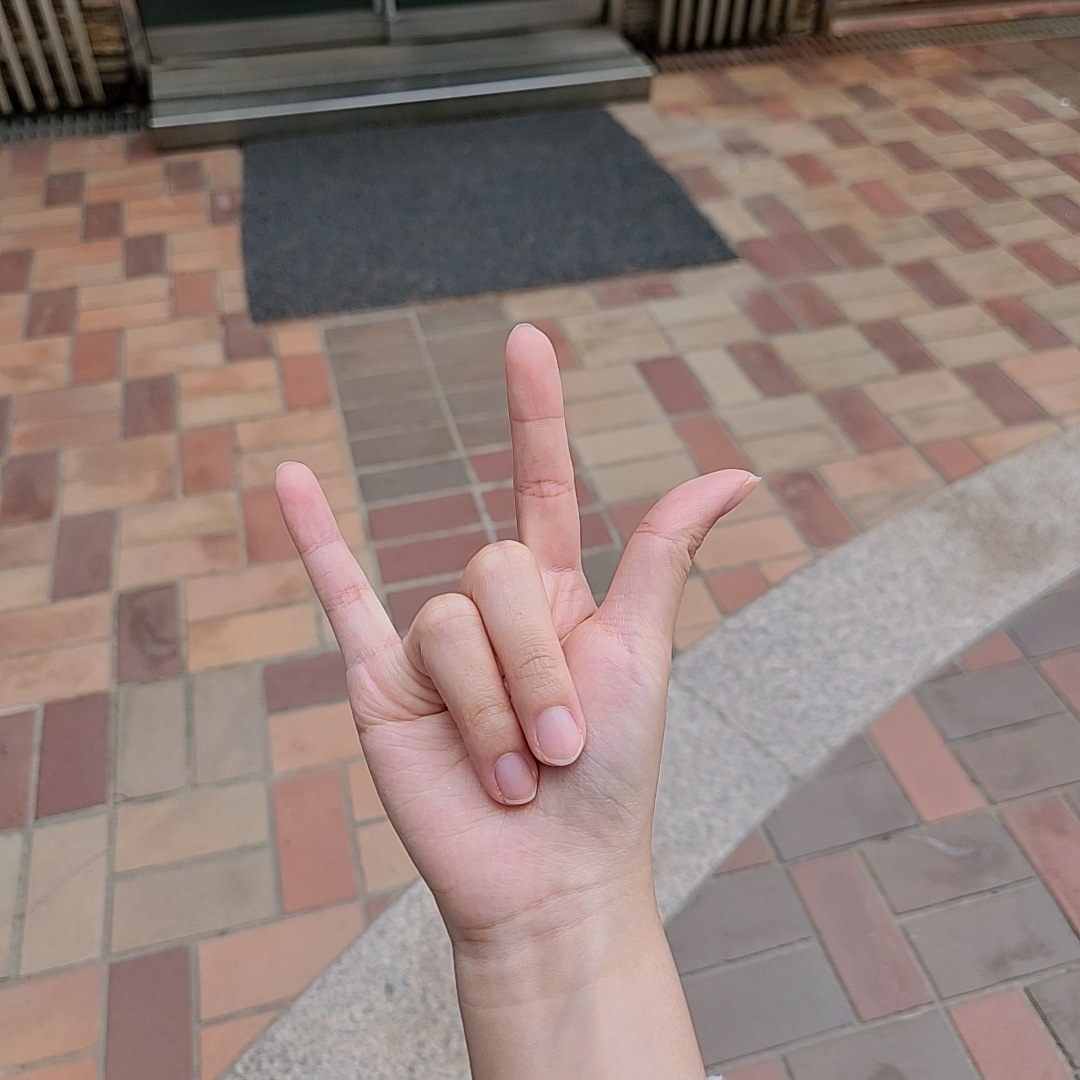iloveyou: (272, 325, 763, 893)
